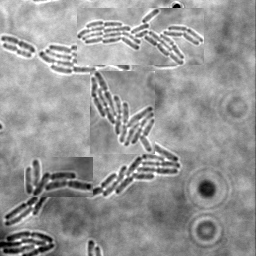Dividing: (1, 34, 37, 52), (3, 41, 33, 57)
Microcolony: (77, 8, 204, 65), (87, 120, 181, 197), (90, 71, 155, 154), (24, 157, 93, 197), (5, 184, 52, 226), (1, 230, 56, 255)
